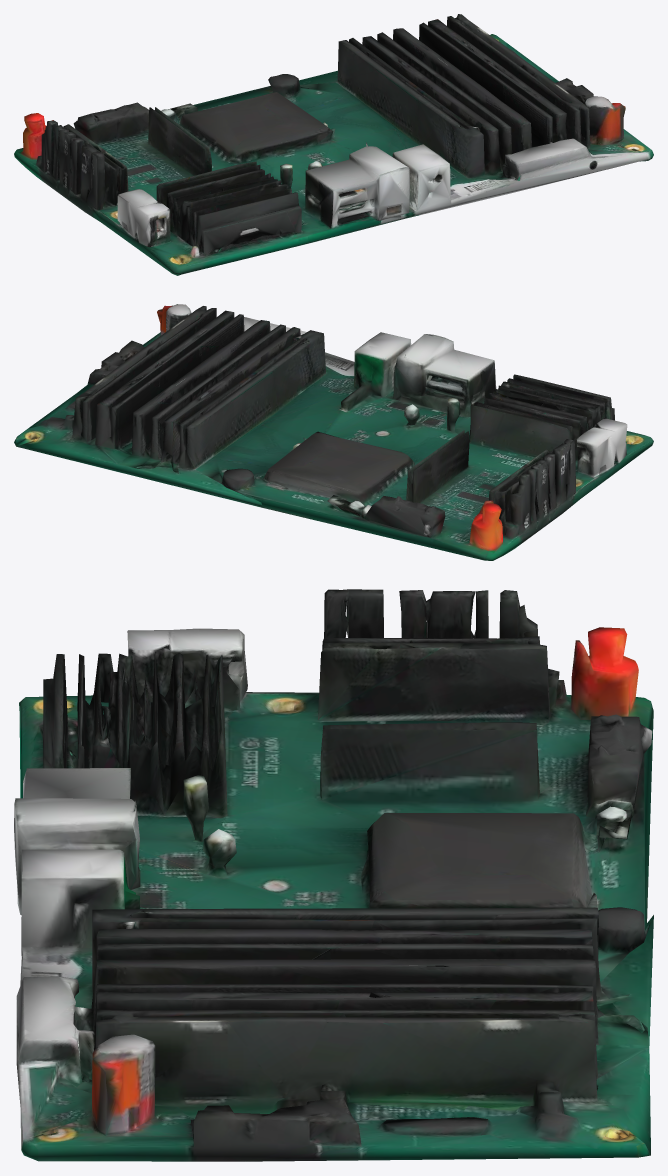
3 views of the same model, one above another, from view 1: azimuth 30°, elevation 25°; view 2: azimuth 150°, elevation 25°; view 3: azimuth 270°, elevation 25° (orthographic). The views are drawn at different scales.
Size of the model in its own units: 2 by 0.2827 by 1.19.
1 material, 1 textured.
